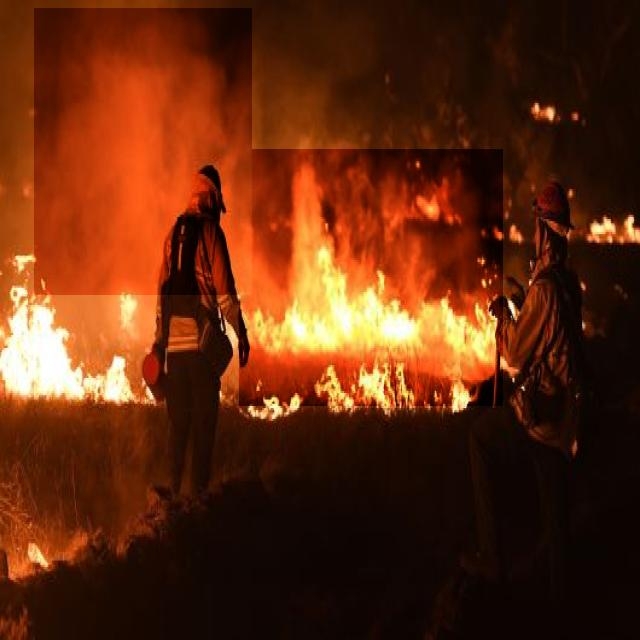Fire: (239, 149, 503, 406), (14, 256, 136, 400)
Smoke: (34, 8, 252, 295)
